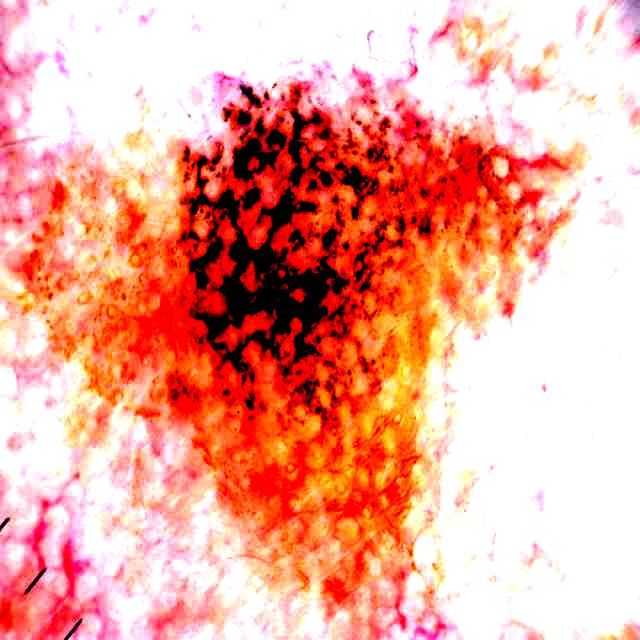AKIEC: (57, 85, 551, 577)
